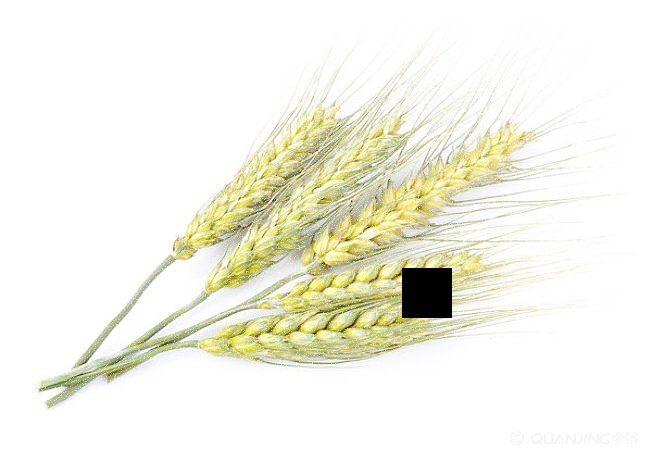wheat: (194, 127, 395, 295), (296, 134, 530, 273), (170, 99, 349, 253), (257, 246, 506, 312), (189, 306, 449, 362)
